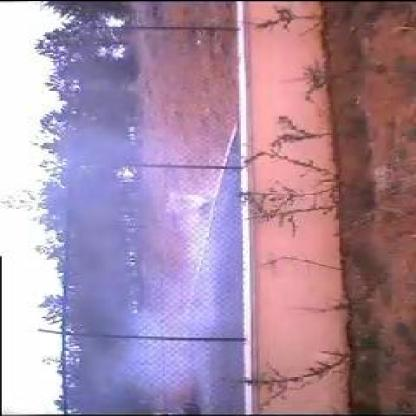-: (72, 160, 242, 338)
